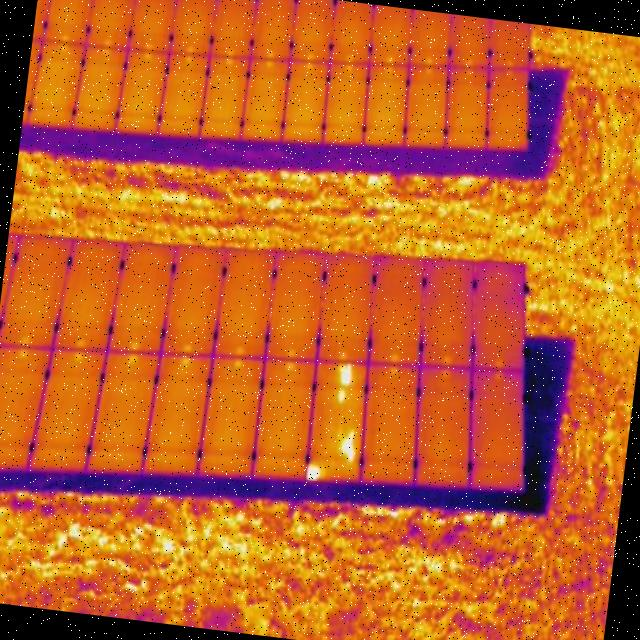Hotspot: (337, 428, 360, 463), (336, 361, 354, 385), (304, 464, 322, 482), (335, 386, 347, 404)
